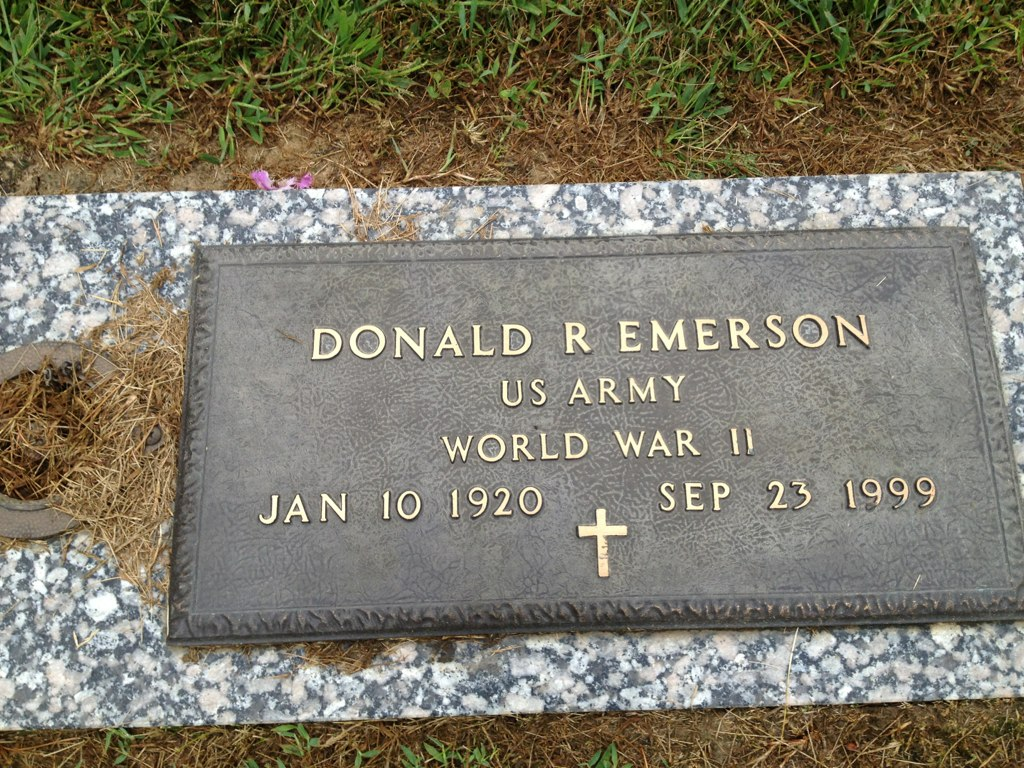flat: (164, 220, 1024, 645)
